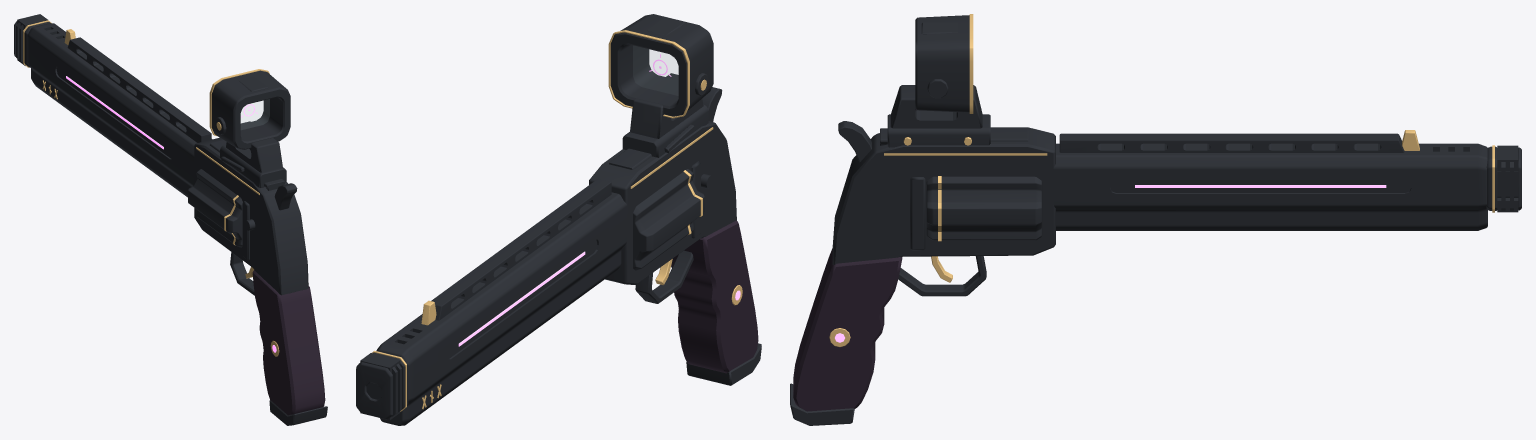
File: weapon_magnum.glb
3 views of the same model, side by side, from view 1: azimuth 30°, elevation 25°; view 2: azimuth 150°, elevation 25°; view 3: azimuth 270°, elevation 25° (orthographic). The views are drawn at different scales.
Visible parts, largest first — view 1: magnum_metal, magnum_polymer, magnum_gold, magnum_glass, magnum_glow; view 2: magnum_metal, magnum_polymer, magnum_gold, magnum_glass, magnum_glow; view 3: magnum_metal, magnum_polymer, magnum_gold, magnum_glow.
Boxes of the visible parts, <box> form: magnum_metal: <box>14,14,327,425</box>; magnum_polymer: <box>252,270,325,415</box>; magnum_gold: <box>23,20,279,356</box>; magnum_glass: <box>241,99,269,129</box>; magnum_glow: <box>66,76,276,352</box>; magnum_metal: <box>356,14,761,425</box>; magnum_polymer: <box>671,220,758,373</box>; magnum_gold: <box>372,30,742,411</box>; magnum_glass: <box>633,46,677,94</box>; magnum_glow: <box>458,54,740,346</box>; magnum_metal: <box>790,15,1521,425</box>; magnum_polymer: <box>793,109,916,411</box>; magnum_gold: <box>829,14,1494,346</box>; magnum_glow: <box>835,185,1386,342</box>.
Size of the model in its own units: 0.0757 by 0.342 by 0.5827.
